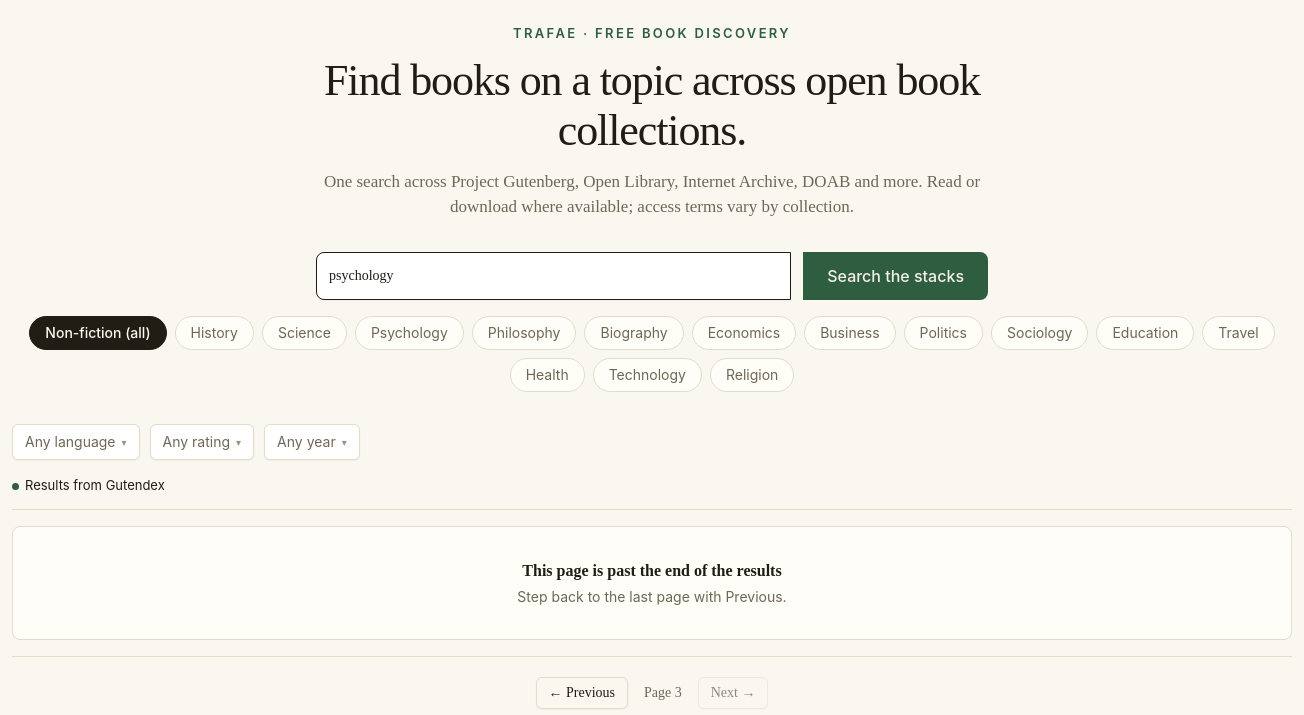
Test: lets readers return from a page beyond the end
The image size is (1304, 715).
Check: the text "This page is past the end of the results" is shown, box [522,562,782,579]
Check: the button "Next →" is disabled, box [698,677,768,709]
Click the button "← Previous" at (582, 693), box [536,677,628,709]
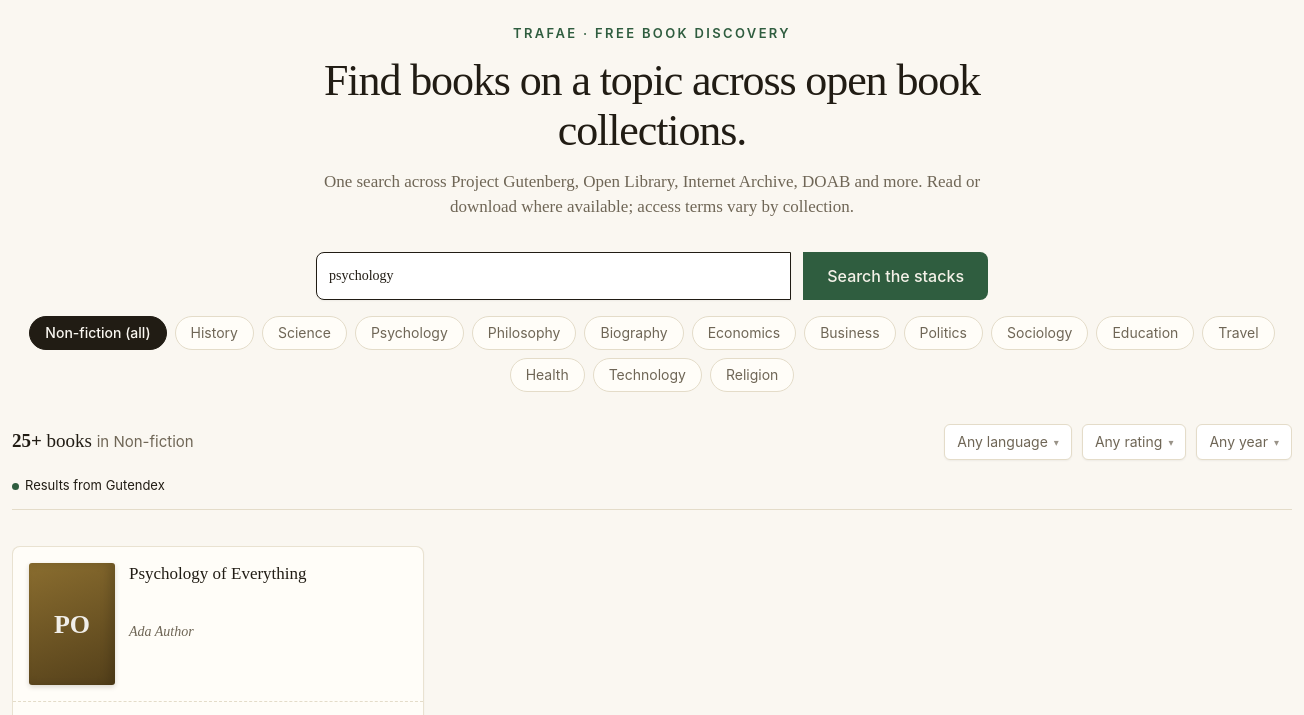
Check: the heading "Psychology of Everything" is shown, box [129,564,306,583]
